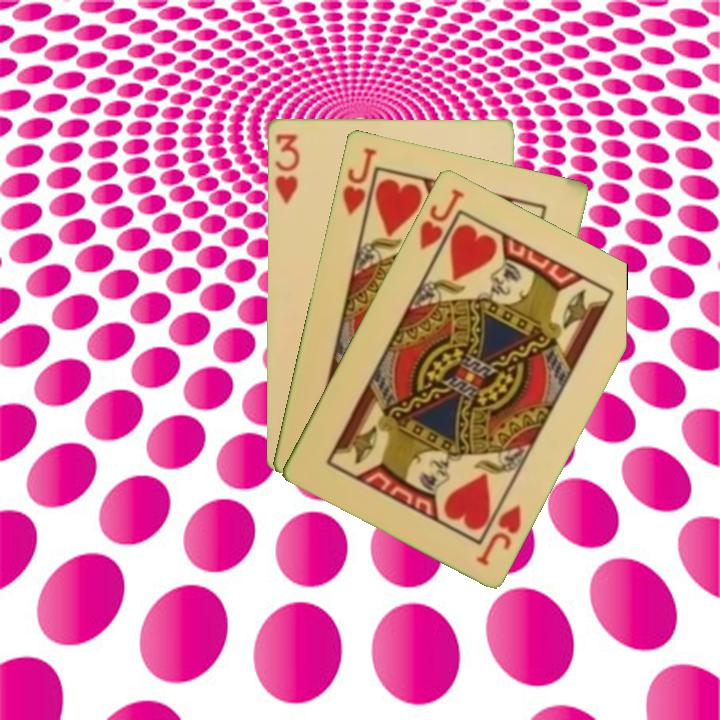3h: (271, 130, 302, 207)
Jh: (415, 184, 467, 252), (472, 500, 524, 568), (338, 143, 380, 227)
